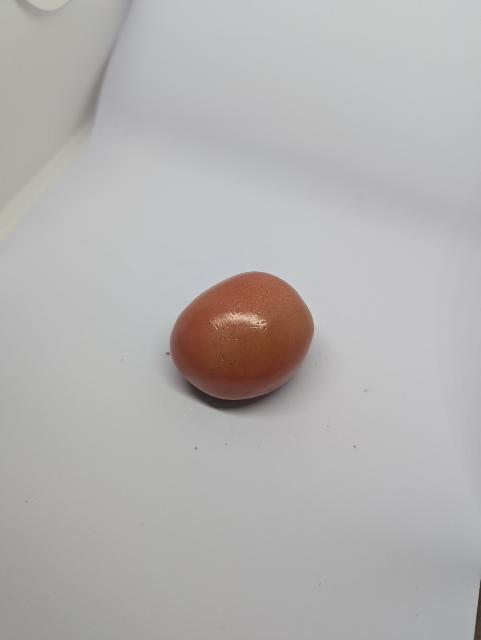red: (161, 266, 322, 409)
